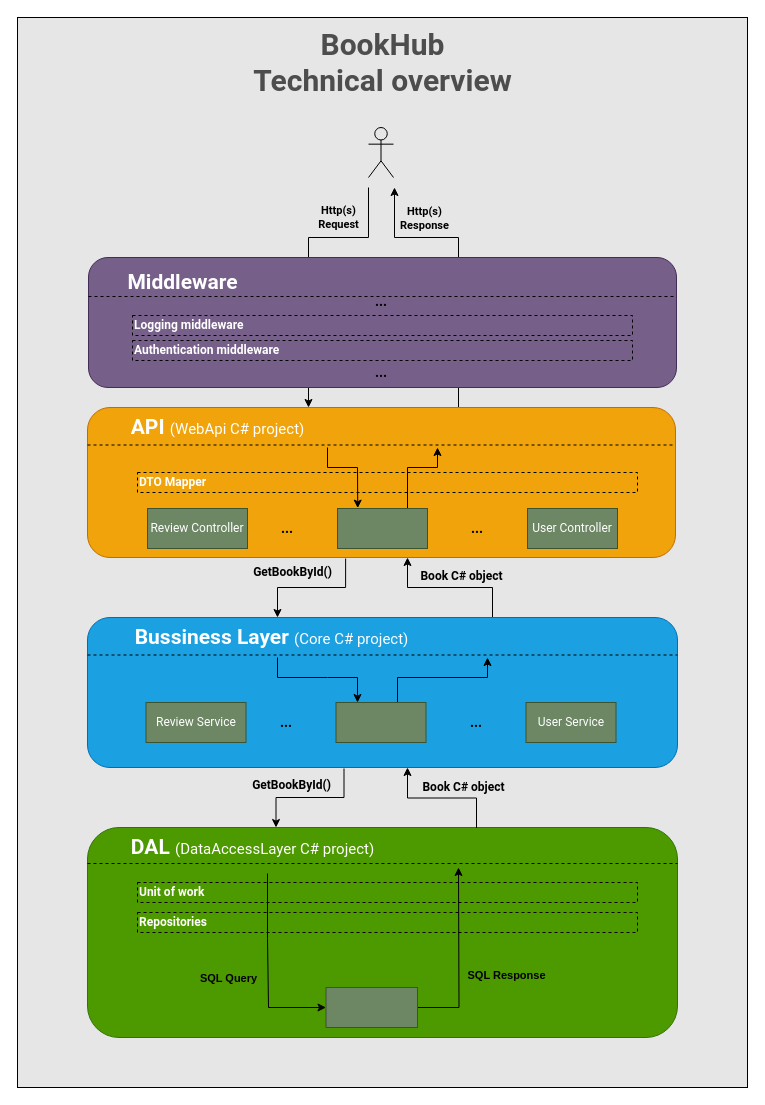
Image size: 765x1105. Some labels were removed from this diagram. Here are the shapes that lost their labels. From the top down, the centre of each, then its label:
At [381,152]: "Customer".
At [382,528]: "Book Controller".
At [380,722]: "Book Service".
At [371,1007]: "SQL Lite Database".
